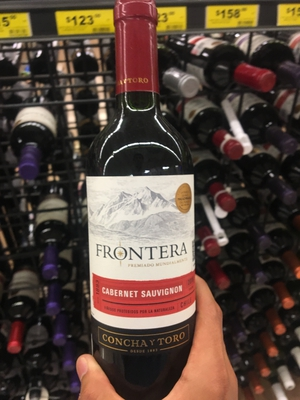frontera cabernet sauvignon: (82, 14, 201, 396)
